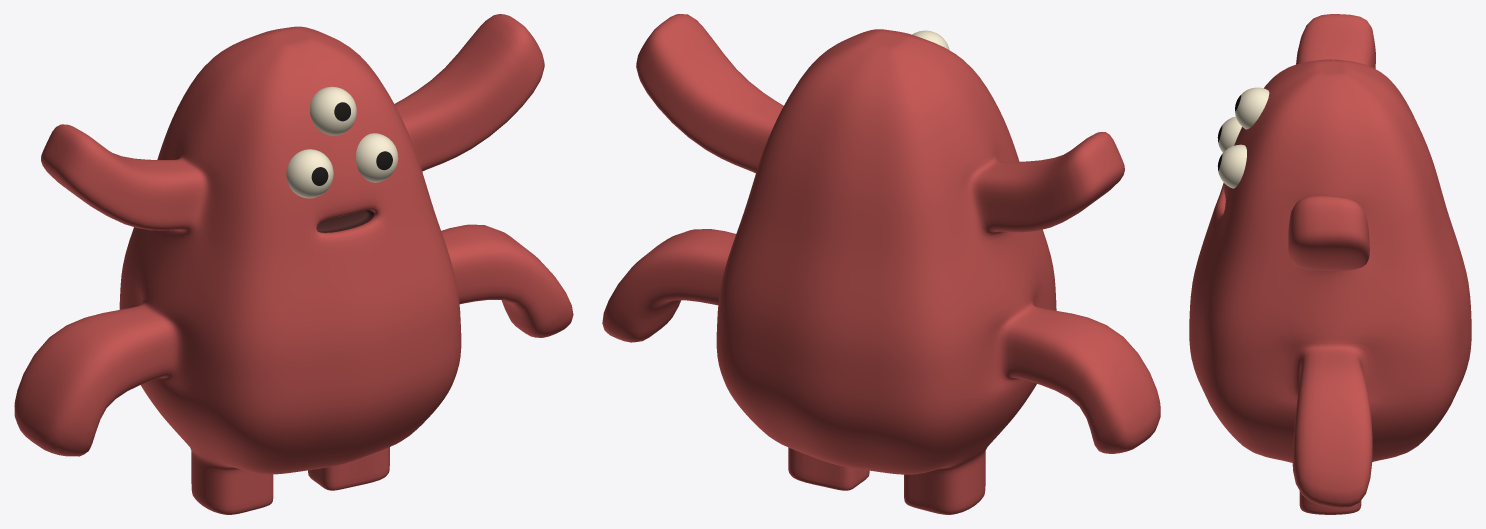
Rendered from 8. karakter.fbx.
The picture shows the model from 3 angles, left to right: view 1: azimuth 30°, elevation 25°; view 2: azimuth 150°, elevation 25°; view 3: azimuth 270°, elevation 25°; orthographic projection. The views are drawn at different scales.
Visible parts, largest first — view 1: Cube, Sphere, Sphere.001, Sphere.002; view 2: Cube; view 3: Cube, Sphere.001, Sphere.002, Sphere.
Part boxes in pixels (x1,y1,x2,y2): Cube: (14, 14, 573, 514); Sphere: (286, 149, 333, 198); Sphere.001: (310, 86, 356, 135); Sphere.002: (356, 133, 398, 182); Cube: (602, 14, 1160, 514); Cube: (1189, 14, 1471, 514); Sphere.001: (1235, 87, 1269, 129); Sphere.002: (1217, 144, 1246, 188); Sphere: (1217, 116, 1241, 152).
Size of the model in its own units: 399 by 324 by 200.
